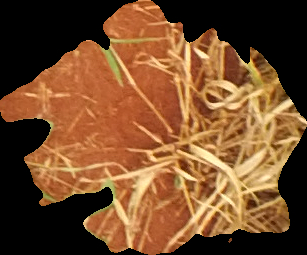soil: (1, 1, 304, 254)
